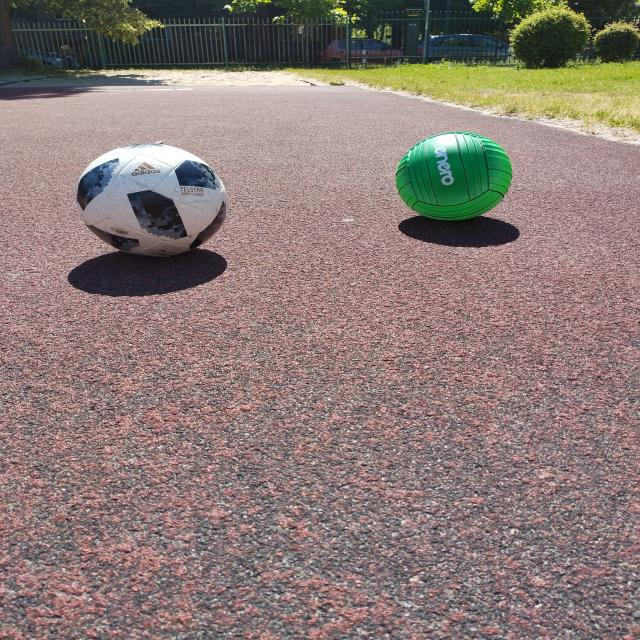nozna: (75, 143, 229, 257)
zielona: (395, 132, 512, 221)
